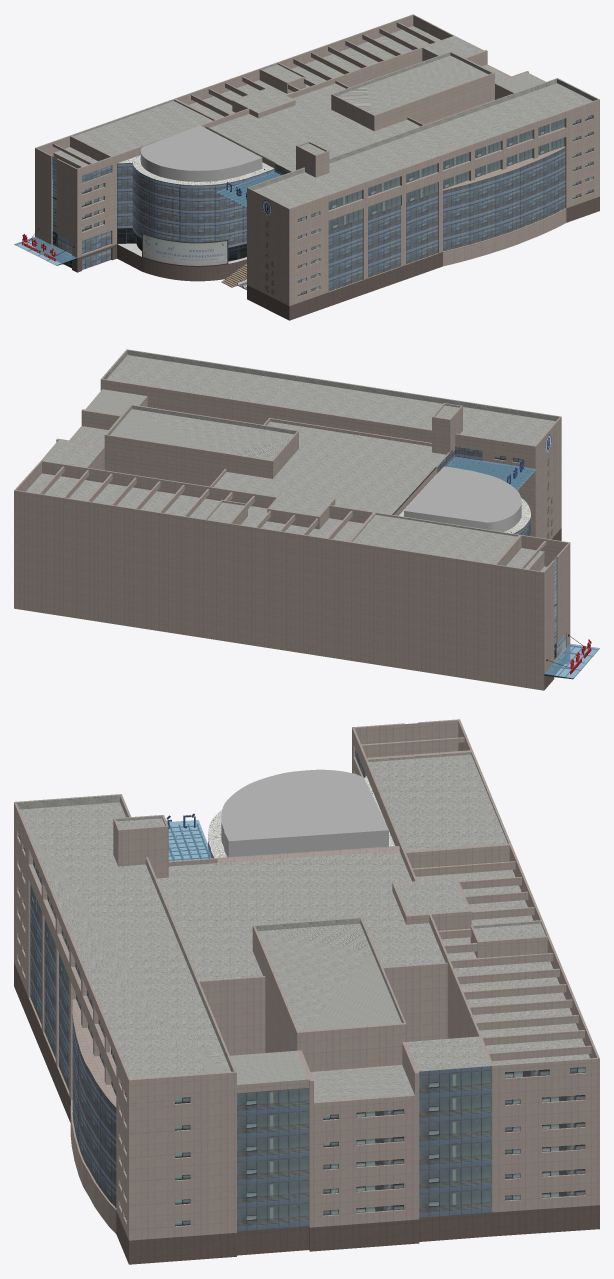
3 renders of one model, top to bottom at view 1: azimuth 30°, elevation 25°; view 2: azimuth 150°, elevation 25°; view 3: azimuth 270°, elevation 25°, orthographic. The views are drawn at different scales.
Visible parts, largest first — view 1: 001_primitive3, 001_primitive11, 001_primitive9, 001_primitive6, 001_primitive14, 001_primitive8, 001_primitive13, 001_primitive26, 001_primitive7, 001_primitive17, 001_primitive18, 001_primitive27; view 2: 001_primitive3, 001_primitive11, 001_primitive14, 001_primitive26, 001_primitive27, 001_primitive9; view 3: 001_primitive3, 001_primitive11, 001_primitive8, 001_primitive6, 001_primitive14, 001_primitive9, 001_primitive10, 001_primitive7, 001_primitive26, 001_primitive17.
Part boxes in pixels (x1,y1,x2,y2): 001_primitive3: [35, 14, 599, 305]; 001_primitive11: [52, 26, 597, 208]; 001_primitive9: [82, 147, 565, 291]; 001_primitive6: [35, 196, 599, 320]; 001_primitive14: [140, 125, 262, 181]; 001_primitive8: [328, 118, 564, 230]; 001_primitive13: [143, 234, 227, 265]; 001_primitive26: [14, 172, 281, 265]; 001_primitive7: [82, 115, 592, 296]; 001_primitive17: [118, 155, 274, 185]; 001_primitive18: [117, 228, 246, 261]; 001_primitive27: [14, 173, 278, 265]; 001_primitive3: [14, 349, 570, 690]; 001_primitive11: [26, 350, 559, 571]; 001_primitive14: [404, 466, 521, 531]; 001_primitive26: [447, 456, 599, 678]; 001_primitive27: [448, 457, 597, 679]; 001_primitive9: [437, 446, 530, 536]; 001_primitive3: [14, 719, 599, 1240]; 001_primitive11: [17, 752, 589, 1101]; 001_primitive8: [30, 859, 491, 1231]; 001_primitive6: [14, 963, 599, 1264]; 001_primitive14: [221, 769, 388, 857]; 001_primitive9: [30, 749, 364, 1207]; 001_primitive10: [356, 1069, 585, 1212]; 001_primitive7: [18, 835, 585, 1226]; 001_primitive26: [167, 820, 211, 861]; 001_primitive17: [208, 776, 394, 858].
Bounding box in the file's own units: 106 × 26.69 × 66.43.
Materials: 30 (19 with a texture image).
